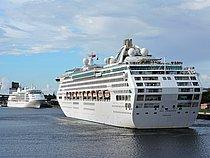Ship: (53, 36, 206, 134)
